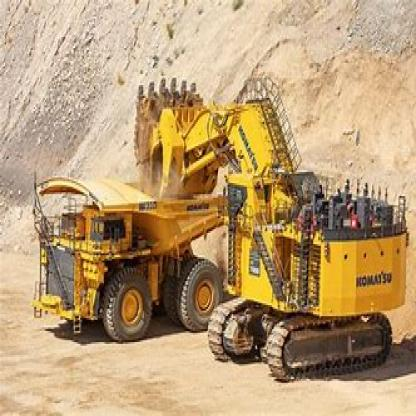dump_truck: (28, 165, 232, 348)
